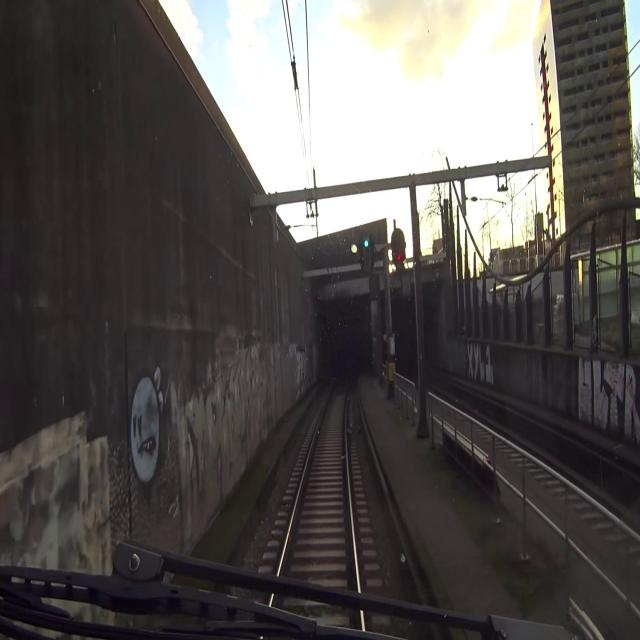rail-track: (282, 378, 355, 584)
